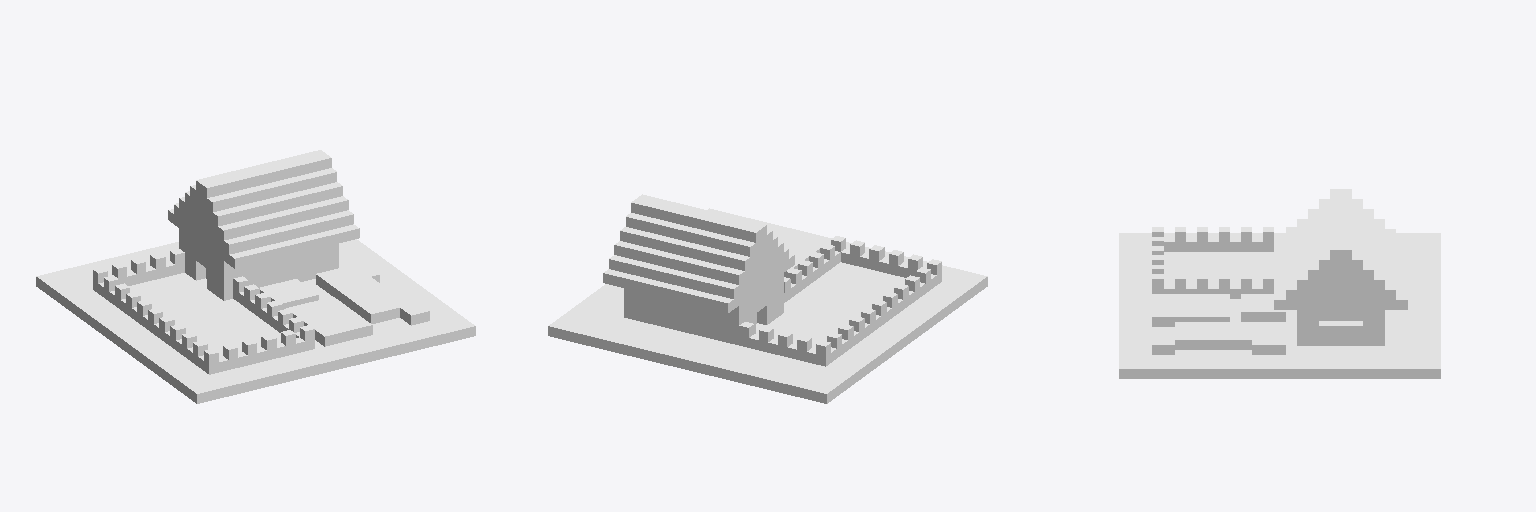
File: Farm-0.obj
The picture shows the model from 3 angles: view 1: azimuth 30°, elevation 25°; view 2: azimuth 150°, elevation 25°; view 3: azimuth 270°, elevation 25°; orthographic projection.
Parts seen in each view (by area): view 1: object 1; view 2: object 1; view 3: object 1.
Boxes of the visible parts, box(x1,y1,x2,y2) form: object 1: box(36, 150, 475, 403); object 1: box(548, 194, 987, 403); object 1: box(1119, 189, 1440, 378).
Bounding box in the file's own units: 2.9 × 1.1 × 2.9.